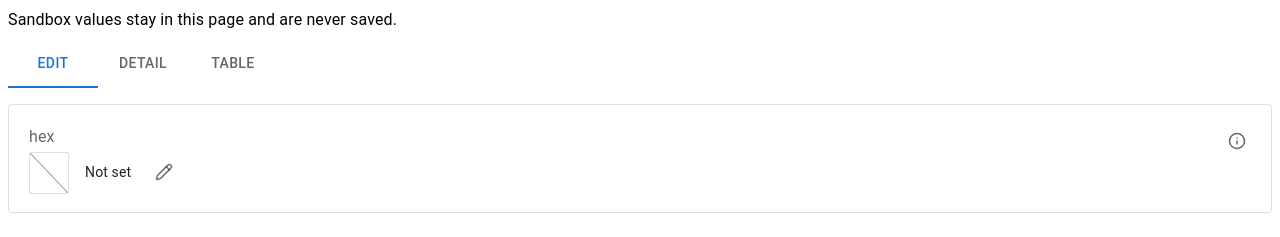
it: color components › previews editing and configured table columns with the same value
The width and height of the screenshot is (1280, 237).
Type "#123456" into the colour field named "Pick color for hex". click: [105, 173]
box: [29,152,181,194]
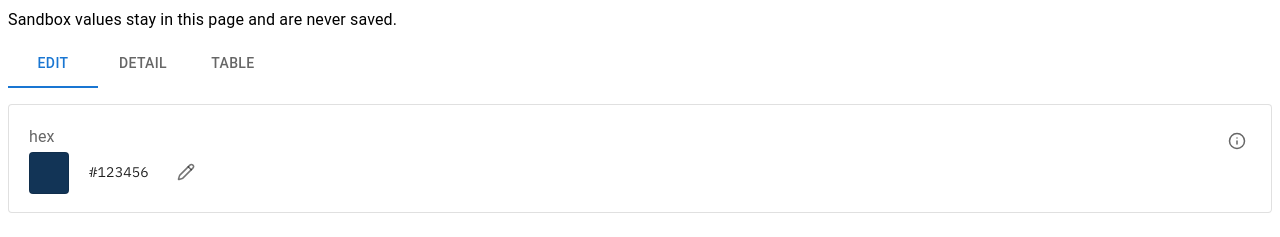
Click the tab "table". click: [233, 64]
box: [188,40,278,88]
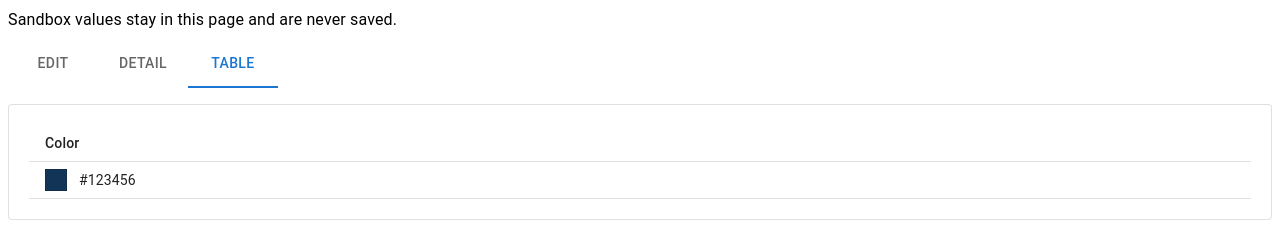
Check: the button "#123456" is shown, box [75,168,140,192]
Check: the column heading "Color" is shown, box [29,125,1251,162]
